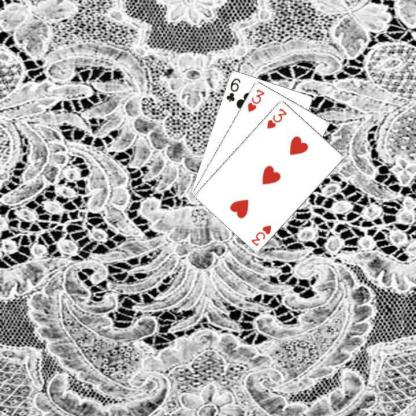3H: (248, 222, 273, 247), (264, 105, 288, 130), (245, 86, 266, 113)
6C: (223, 75, 242, 103)
